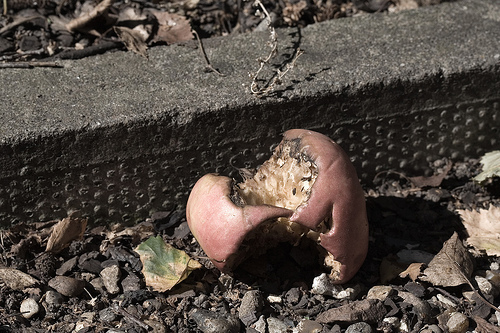litter: (183, 126, 369, 285)
